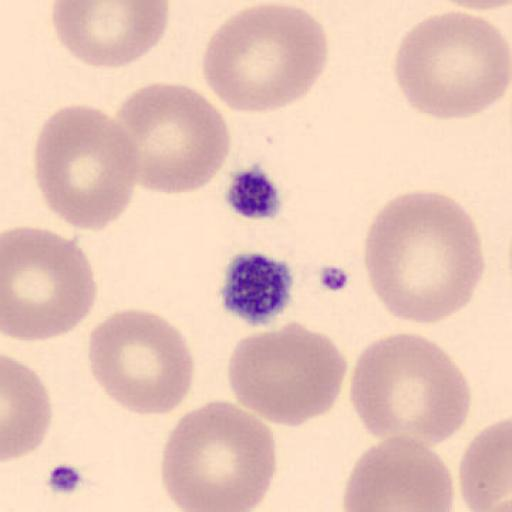Platelet: (217, 250, 296, 327), (222, 162, 284, 222)
RBC: (362, 188, 486, 326), (200, 1, 330, 115), (349, 331, 472, 449), (34, 102, 142, 232), (392, 8, 512, 121), (160, 398, 278, 512), (114, 81, 232, 195), (226, 322, 349, 428), (87, 308, 197, 418), (2, 225, 98, 343), (341, 434, 455, 512), (50, 0, 170, 68), (2, 354, 52, 463), (458, 417, 512, 512), (432, 0, 511, 11)
